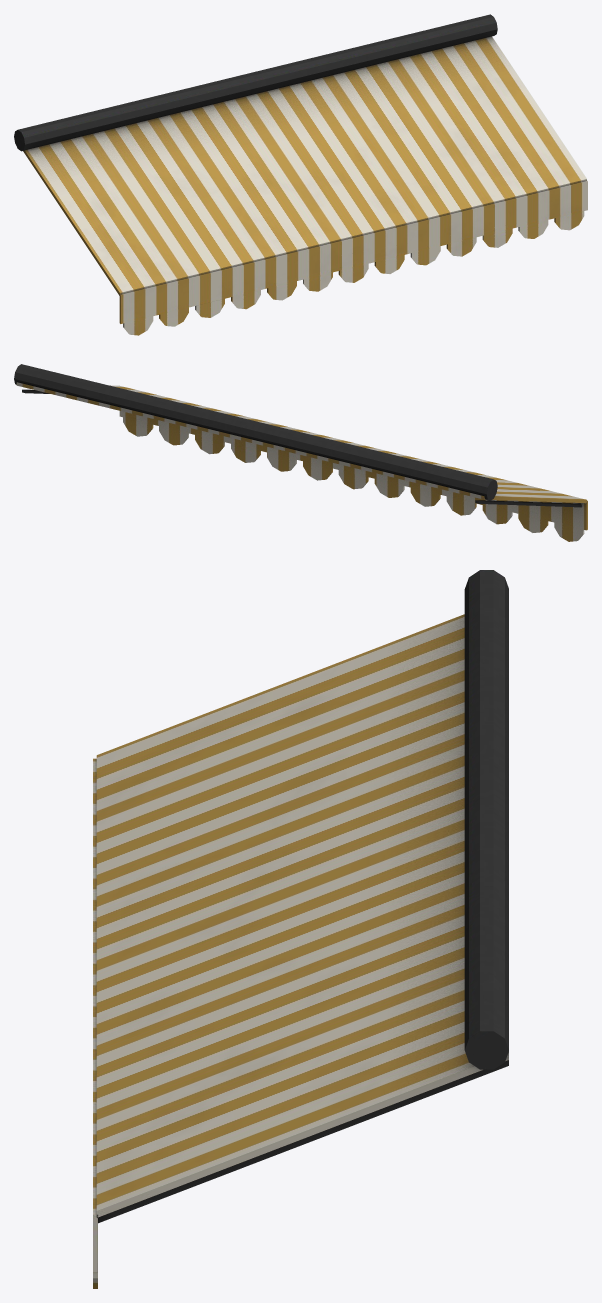
Rendered from awning_34_ochre.glb.
The picture shows the model from 3 angles, top to bottom: view 1: azimuth 30°, elevation 25°; view 2: azimuth 150°, elevation 25°; view 3: azimuth 270°, elevation 25°; orthographic projection. The views are drawn at different scales.
Parts seen in each view (by area): view 1: awning_34_ochre; view 2: awning_34_ochre; view 3: awning_34_ochre.
Boxes of the visible parts, x1,y1,x2,y2 form: awning_34_ochre: (14,14,587,335); awning_34_ochre: (14,364,587,541); awning_34_ochre: (93,570,508,1288).
Size of the model in its own units: 3.44 by 0.9566 by 1.31.
1 material, 1 textured.
